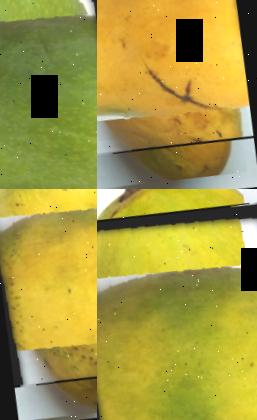PartiallyRipe: (97, 193, 257, 420)
Ripe: (97, 0, 257, 162), (0, 189, 97, 392)
Unripe: (0, 0, 97, 189)
